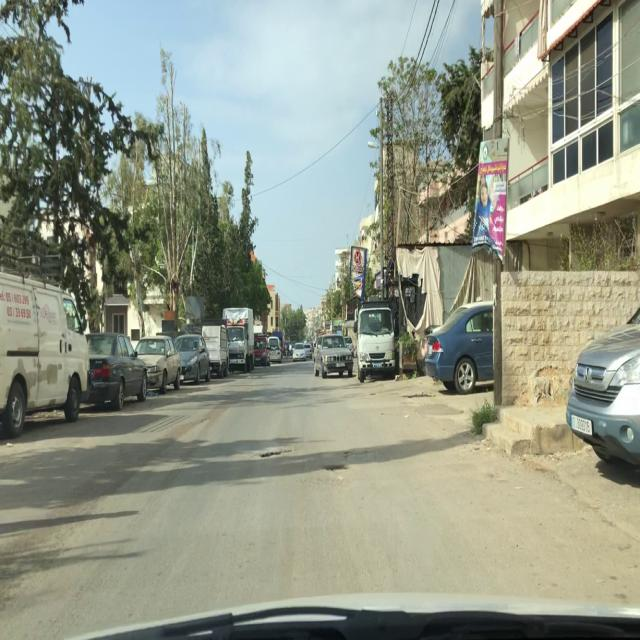Pothole: (258, 447, 292, 459), (322, 462, 348, 474)
